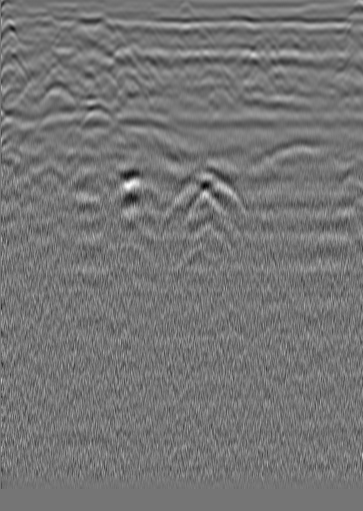가스: (107, 166, 158, 212)
상수: (326, 33, 346, 53)
오수: (55, 20, 75, 40)
우수: (195, 22, 215, 42)
